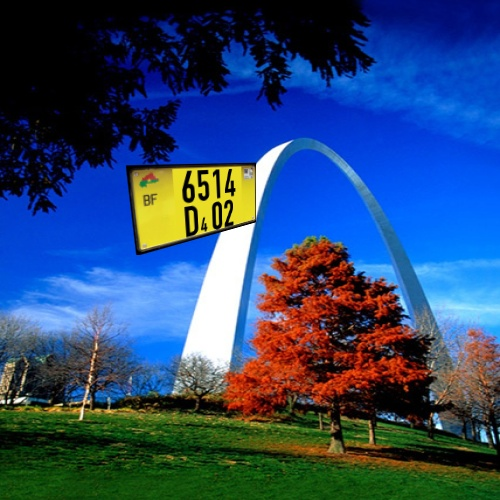plate: (119, 155, 275, 265)
